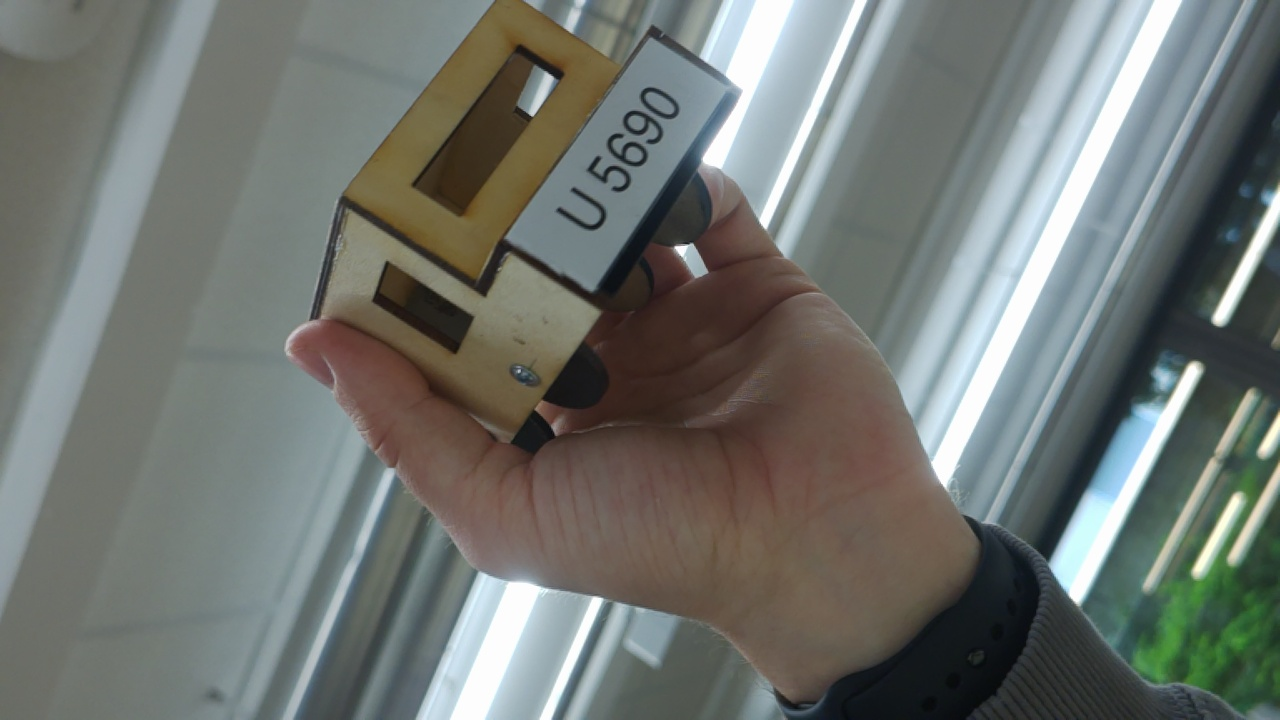license_plate: (488, 13, 740, 303)
